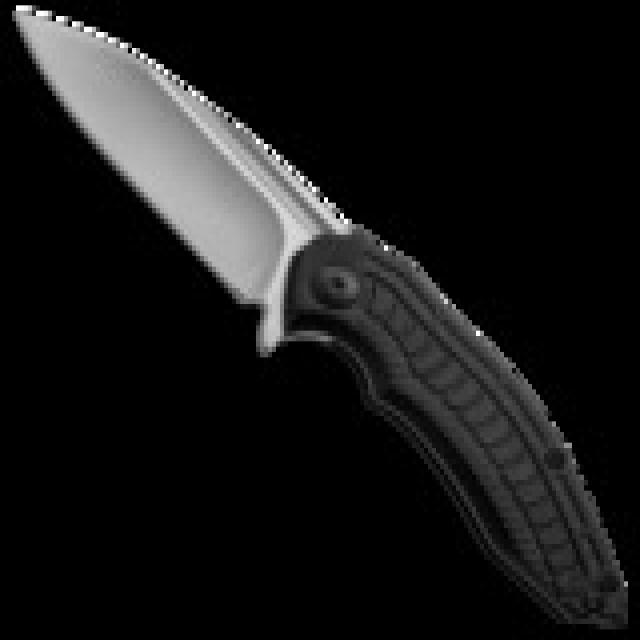Knife: (4, 0, 624, 603)
